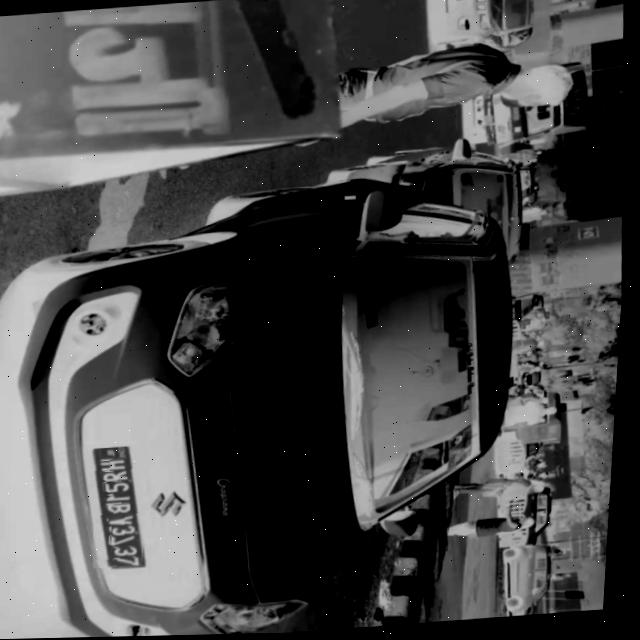1: (111, 495, 136, 504)
3: (116, 525, 141, 537), (118, 548, 143, 559)
5: (108, 482, 134, 494)
7: (115, 536, 143, 548), (120, 558, 146, 568)
B: (112, 504, 136, 516)
H: (103, 459, 132, 472)
IND: (110, 448, 132, 461)
Indian_registered: (99, 447, 149, 569)
R: (106, 470, 133, 483)
V: (113, 515, 141, 527)
